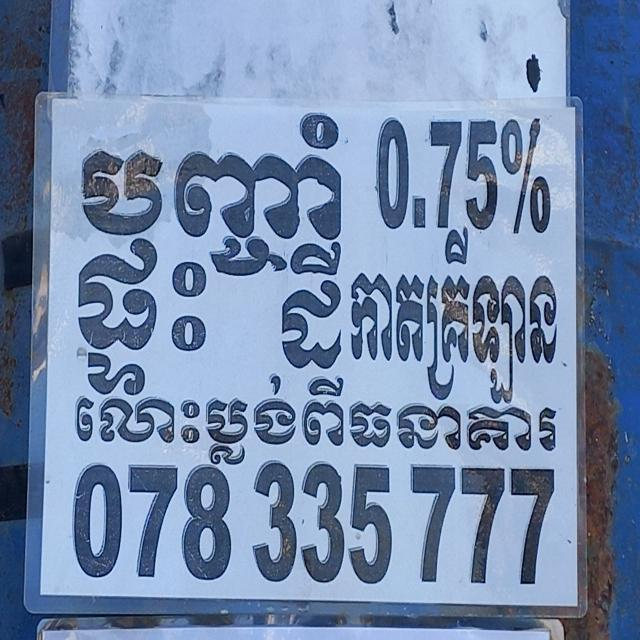Yolov11kh: (70, 453, 561, 597), (280, 226, 563, 404), (77, 100, 347, 282), (74, 371, 560, 464), (72, 229, 220, 398), (374, 109, 501, 240)
